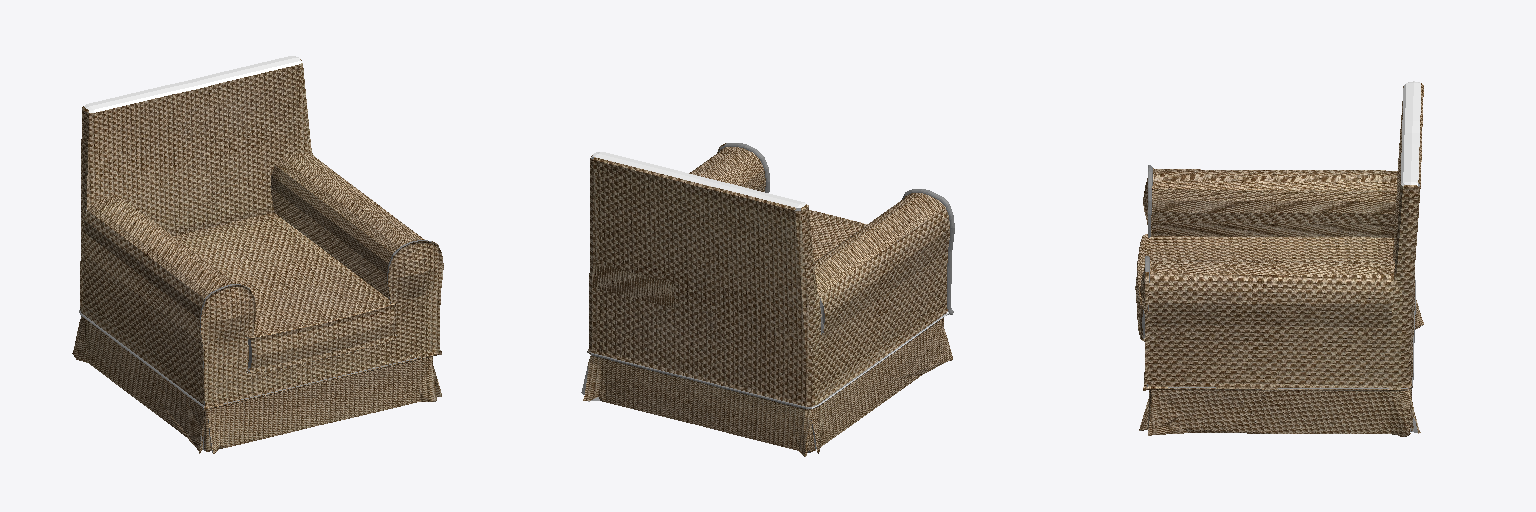
The picture shows the model from 3 angles: view 1: azimuth 30°, elevation 25°; view 2: azimuth 150°, elevation 25°; view 3: azimuth 270°, elevation 25°; orthographic projection.
Parts seen in each view (by area): view 1: Object.1; view 2: Object.1; view 3: Object.1.
Boxes of the visible parts, box(x1,y1,x2,y2) form: Object.1: box(72, 56, 443, 453); Object.1: box(581, 143, 954, 456); Object.1: box(1135, 81, 1423, 436).
Bounding box in the file's own units: 840 × 824 × 866.
Materials: 5 (1 with a texture image).